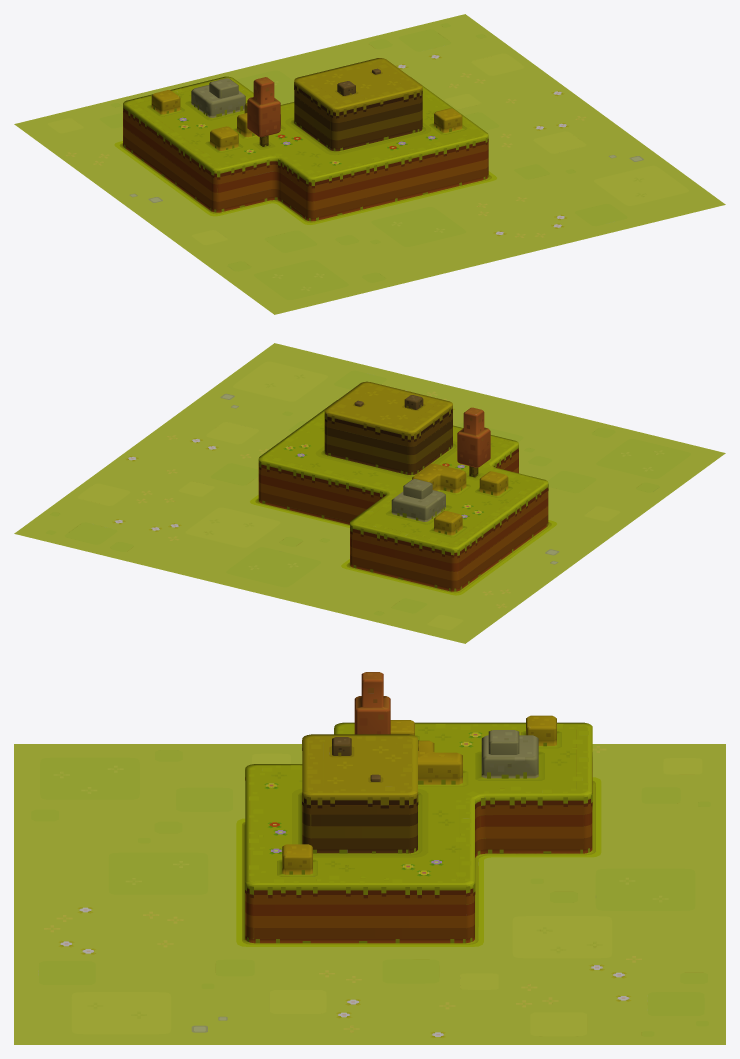
File: C_grass2_06.fbx
3 views of the same model, one above another, from view 1: azimuth 30°, elevation 25°; view 2: azimuth 150°, elevation 25°; view 3: azimuth 270°, elevation 25° (orthographic). The views are drawn at different scales.
Parts seen in each view (by area): view 1: C_grass2_06; view 2: C_grass2_06; view 3: C_grass2_06.
Boxes of the visible parts, x1=… form: C_grass2_06: x1=14, y1=14, x2=725, y2=314; C_grass2_06: x1=14, y1=343, x2=725, y2=643; C_grass2_06: x1=14, y1=672, x2=725, y2=1044.
Size of the model in its own units: 50 by 11.52 by 50.
